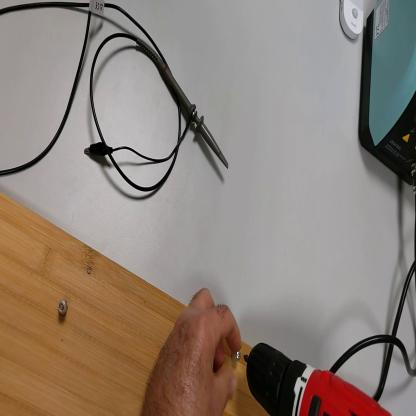electric screwdriver: (243, 343, 392, 415)
hand: (144, 286, 243, 413)
oscilloscope probe tip: (137, 39, 230, 168)
welder station: (359, 2, 416, 189)
working area: (1, 194, 269, 416)
